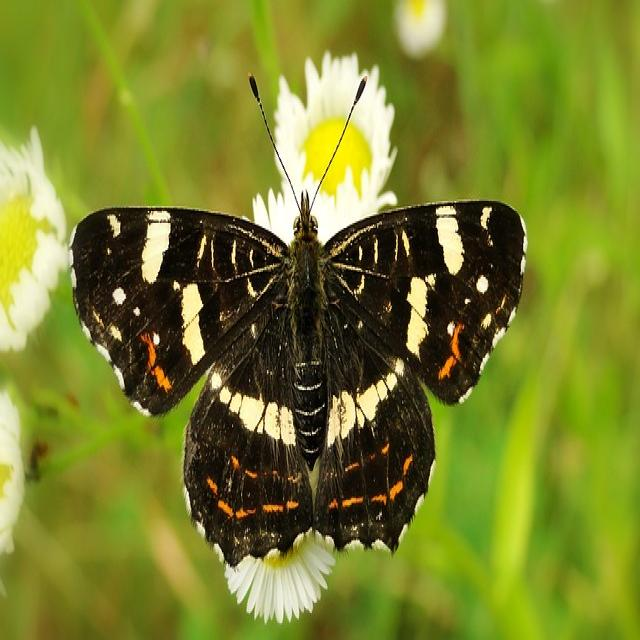butterfly: (69, 196, 528, 623)
